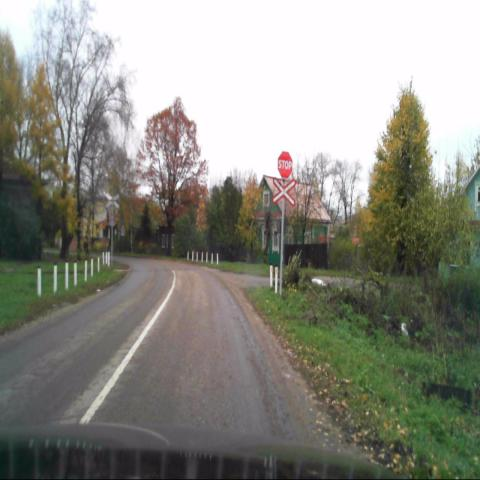2_5: (277, 150, 292, 178)
